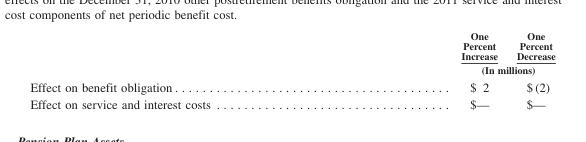table: (29, 29, 554, 110)
table column: (29, 29, 335, 110), (335, 29, 506, 110), (506, 29, 554, 110)
table column header: (29, 29, 554, 77)
table row: (29, 29, 554, 62), (29, 77, 554, 95), (29, 62, 554, 77), (29, 95, 554, 110)
table spanning cell: (335, 62, 554, 77)
